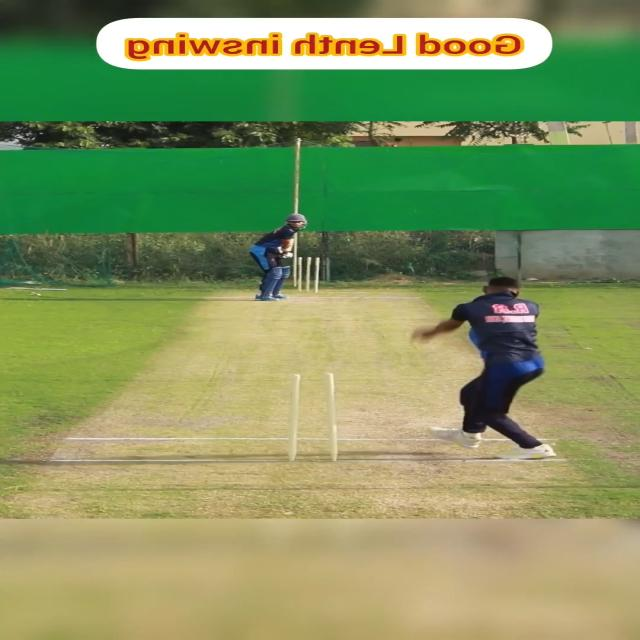stump: (286, 371, 342, 462), (297, 257, 320, 293)
